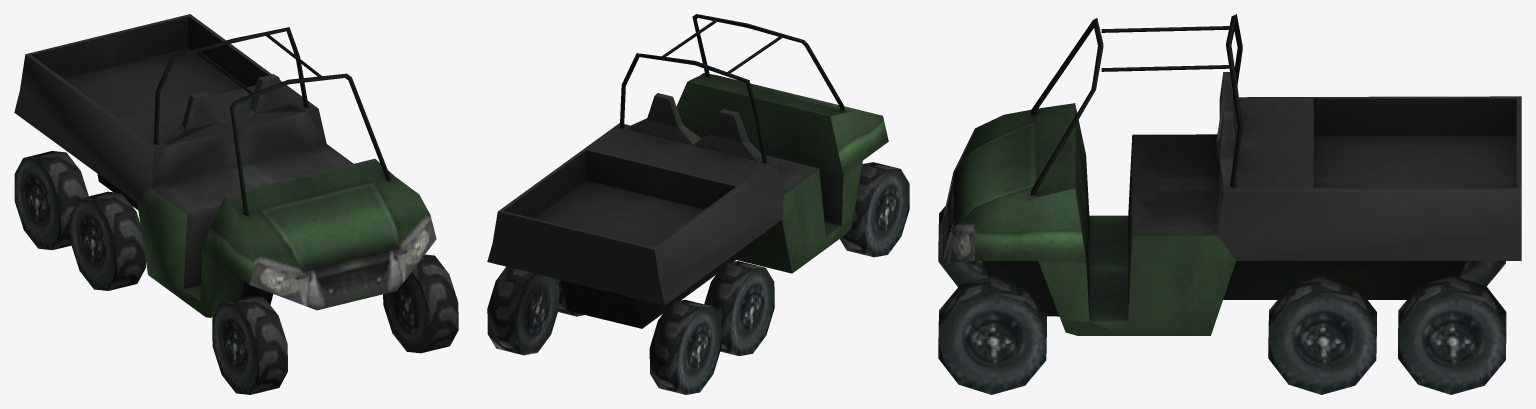
File: Beaver.DAE
The picture shows the model from 3 angles, left to right: view 1: azimuth 30°, elevation 25°; view 2: azimuth 150°, elevation 25°; view 3: azimuth 270°, elevation 25°; orthographic projection. The views are drawn at different scales.
Parts seen in each view (by area): view 1: _1552_Beaver; view 2: _1552_Beaver; view 3: _1552_Beaver.
Part boxes in pixels (x1,y1,x2,y2): _1552_Beaver: [14, 14, 458, 394]; _1552_Beaver: [487, 14, 909, 394]; _1552_Beaver: [938, 14, 1521, 394].
Size of the model in its own units: 62.98 by 76.88 by 137.
Materials: 1 (1 with a texture image).
